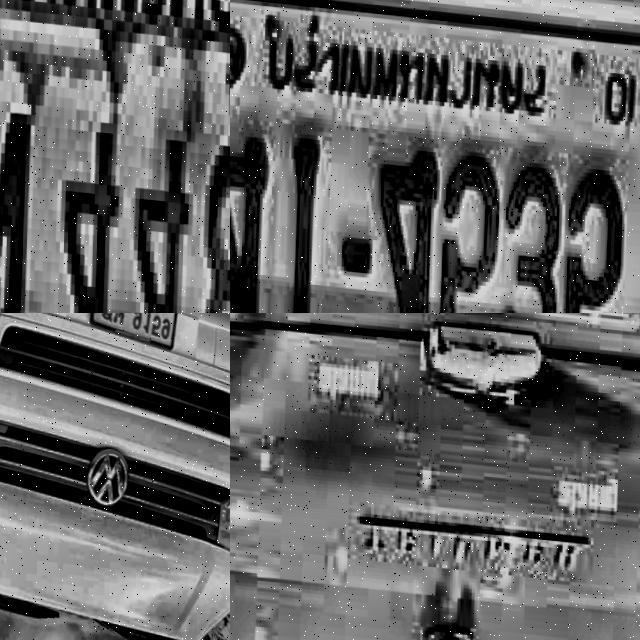license-plate: (230, 0, 640, 313), (0, 0, 230, 313), (84, 313, 180, 344)
